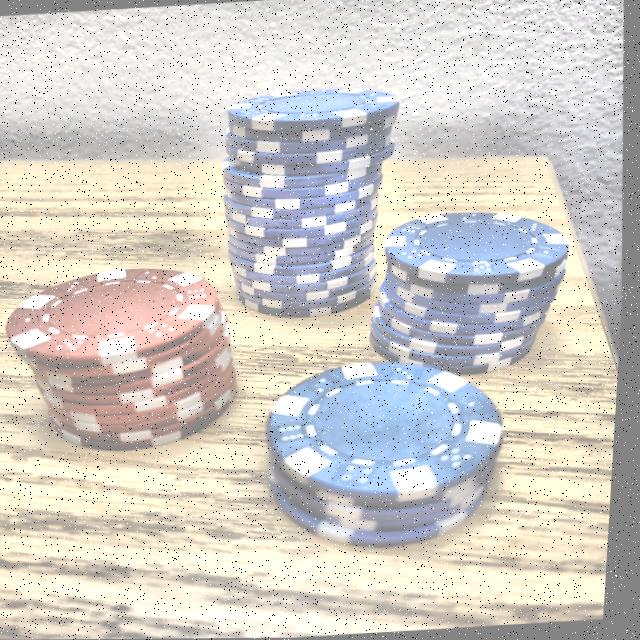Chip: (231, 342, 541, 580), (1, 229, 263, 481), (202, 65, 418, 345), (362, 179, 590, 390)
